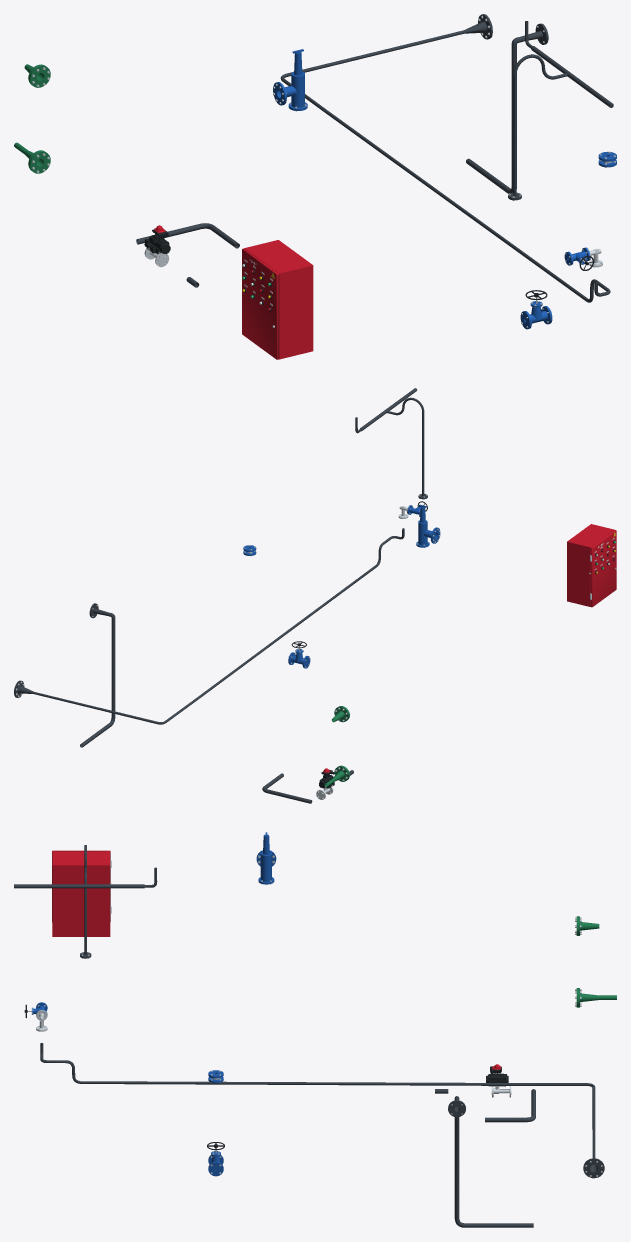
The picture shows the model from 3 angles, top to bottom: view 1: azimuth 30°, elevation 25°; view 2: azimuth 150°, elevation 25°; view 3: azimuth 270°, elevation 25°; orthographic projection. The views are drawn at different scales.
Parts seen in each view (by area): view 1: control_cabinet / control_cabinet_0.npz, cabinet_door / cabinet_door_5.npz, tds_common / dark, pressure_header / dark, bottom_to_bdv / dark, tds_to_fv / dark, safety_1 / blue, eco_inlet_adapter / green, bcv7432 / bcv7432_0.npz, pump_in_valve_1 / blue, bottom_bypass_after / dark; view 2: control_cabinet / control_cabinet_0.npz, cabinet_door / cabinet_door_5.npz, bottom_to_bdv / dark, tds_common / dark, pressure_header / dark, tds_to_fv / dark; view 3: control_cabinet / control_cabinet_0.npz, tds_common / dark, bottom_to_bdv / dark, pressure_header / dark, tds_to_fv / dark, safety_1 / blue.
Part boxes in pixels (x1=…): control_cabinet / control_cabinet_0.npz: x1=244, y1=240, x2=313, y2=359; cabinet_door / cabinet_door_5.npz: x1=242, y1=248, x2=278, y2=359; tds_common / dark: x1=324, y1=109, x2=610, y2=302; pressure_header / dark: x1=508, y1=21, x2=613, y2=200; bottom_to_bdv / dark: x1=466, y1=23, x2=548, y2=193; tds_to_fv / dark: x1=280, y1=14, x2=492, y2=111; safety_1 / blue: x1=273, y1=49, x2=307, y2=110; eco_inlet_adapter / green: x1=14, y1=64, x2=50, y2=173; bcv7432 / bcv7432_0.npz: x1=144, y1=225, x2=170, y2=267; pump_in_valve_1 / blue: x1=520, y1=301, x2=552, y2=329; bottom_bypass_after / dark: x1=136, y1=223, x2=239, y2=248; control_cabinet / control_cabinet_0.npz: x1=567, y1=524, x2=614, y2=606; cabinet_door / cabinet_door_5.npz: x1=590, y1=530, x2=616, y2=607; bottom_to_bdv / dark: x1=80, y1=603, x2=115, y2=747; tds_common / dark: x1=194, y1=528, x2=404, y2=700; pressure_header / dark: x1=355, y1=388, x2=427, y2=499; tds_to_fv / dark: x1=14, y1=680, x2=195, y2=724; control_cabinet / control_cabinet_0.npz: x1=52, y1=851, x2=111, y2=936; tds_common / dark: x1=40, y1=1043, x2=517, y2=1085; bottom_to_bdv / dark: x1=448, y1=1096, x2=533, y2=1227; pressure_header / dark: x1=14, y1=845, x2=157, y2=958; tds_to_fv / dark: x1=517, y1=1083, x2=604, y2=1178; safety_1 / blue: x1=256, y1=832, x2=276, y2=884.
Size of the model in its own units: 4.73 by 3.03 by 5.5.
